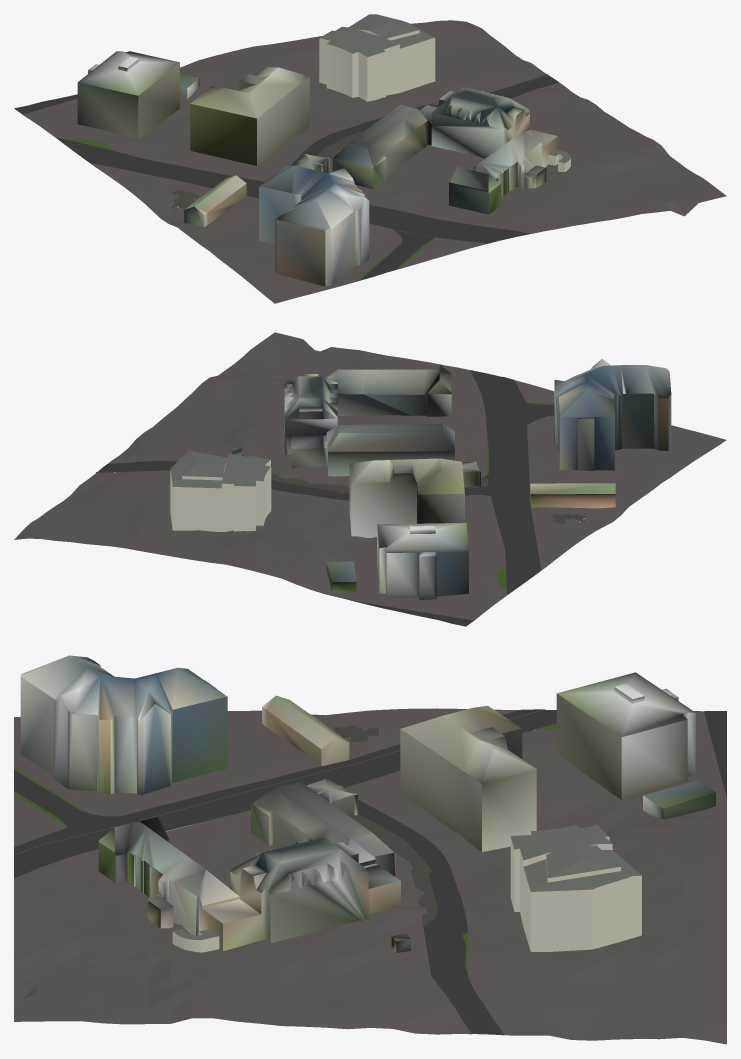
3 views of the same model, one above another, from view 1: azimuth 30°, elevation 25°; view 2: azimuth 150°, elevation 25°; view 3: azimuth 270°, elevation 25° (orthographic). The views are drawn at different scales.
Visible parts, largest first — view 1: c_p03_p10; view 2: c_p03_p10; view 3: c_p03_p10.
Part boxes in pixels (box(x1,y1,x2,y2)): c_p03_p10: box(14, 14, 726, 303); c_p03_p10: box(14, 332, 726, 626); c_p03_p10: box(14, 655, 726, 1044).
Size of the model in its own units: 128 by 25.49 by 128.
